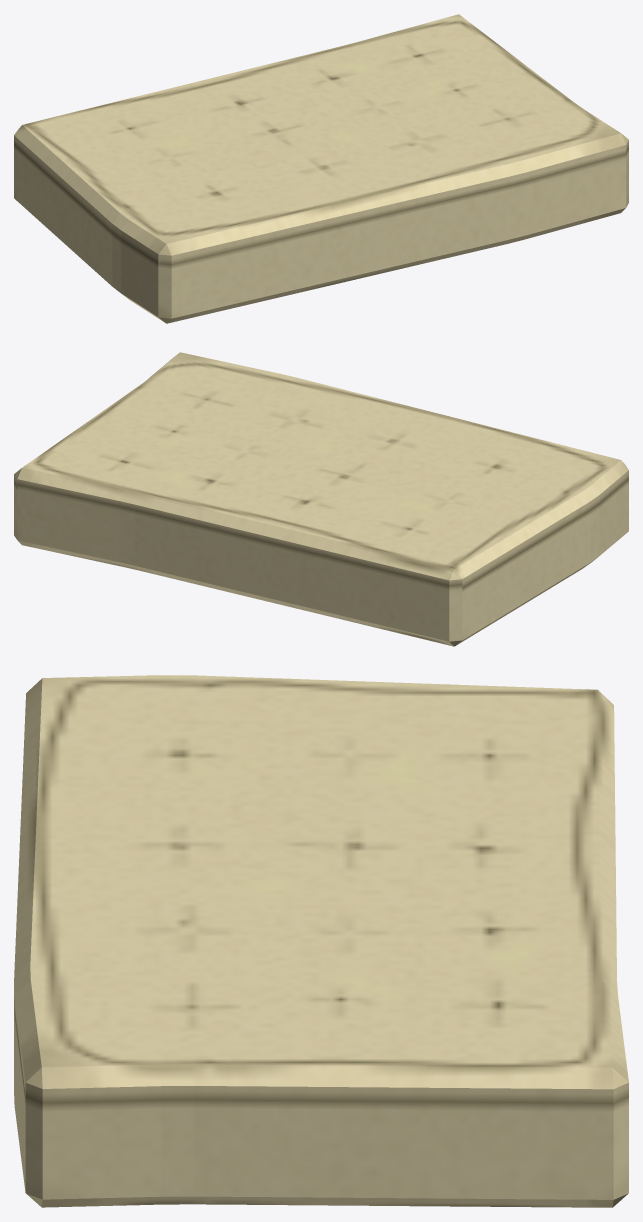
File: matress.fbx
3 renders of one model, top to bottom at view 1: azimuth 30°, elevation 25°; view 2: azimuth 150°, elevation 25°; view 3: azimuth 270°, elevation 25°, orthographic. The views are drawn at different scales.
Parts seen in each view (by area): view 1: matress; view 2: matress; view 3: matress.
Part boxes in pixels (bbox=[...]): matress: bbox=[14, 14, 628, 323]; matress: bbox=[14, 352, 628, 646]; matress: bbox=[14, 675, 628, 1207].
Bounding box in the file's own units: 252 × 40.52 × 161.
